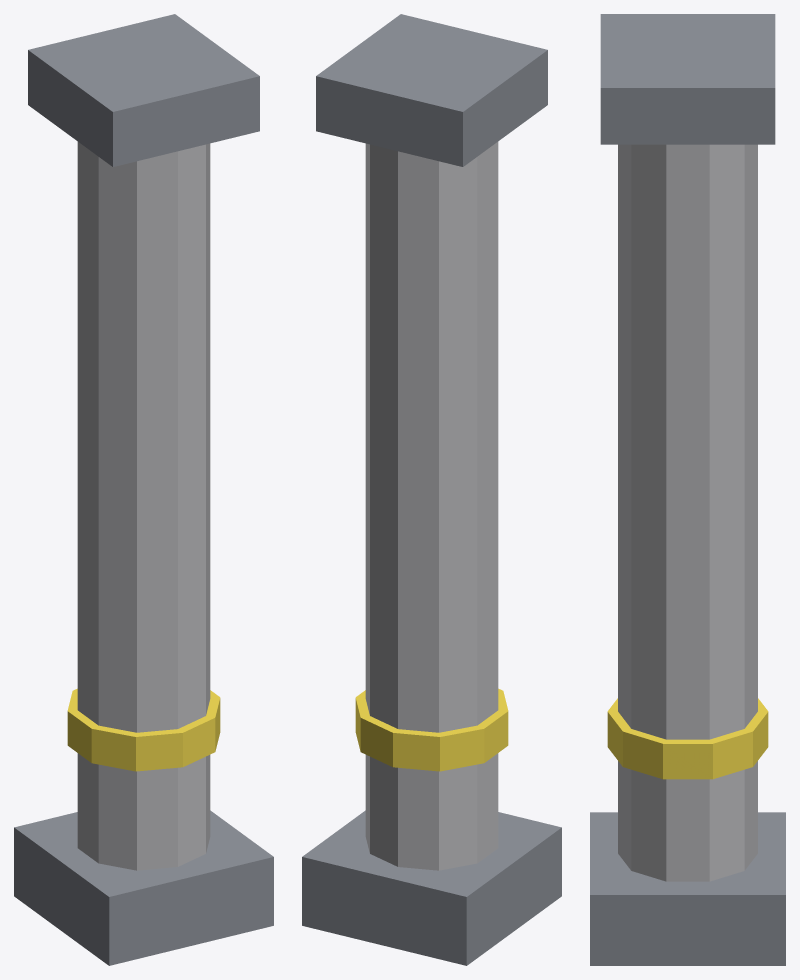
Rendered from pillar.glb.
3 views of the same model, side by side, from view 1: azimuth 30°, elevation 25°; view 2: azimuth 150°, elevation 25°; view 3: azimuth 270°, elevation 25° (orthographic). The views are drawn at different scales.
Visible parts, largest first — view 1: pillar; view 2: pillar; view 3: pillar.
Boxes of the visible parts, x1,y1,x2,y2 form: pillar: (14,14,273,965); pillar: (302,14,561,965); pillar: (590,14,785,965).
Bounding box in the file's own units: 0.5 × 2.46 × 0.5.
